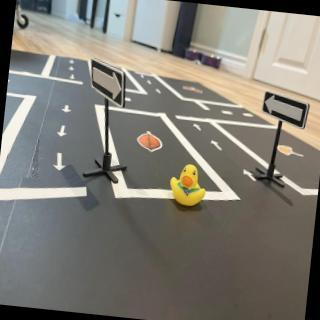duck_regular: (169, 164, 210, 211)
road_oneway: (52, 151, 70, 174), (242, 166, 260, 184), (54, 122, 70, 141), (209, 137, 225, 151), (61, 103, 74, 115), (191, 122, 204, 134), (154, 87, 163, 98)
sign_oneway_left: (261, 90, 312, 132)
sign_oneway_right: (87, 58, 129, 108)
